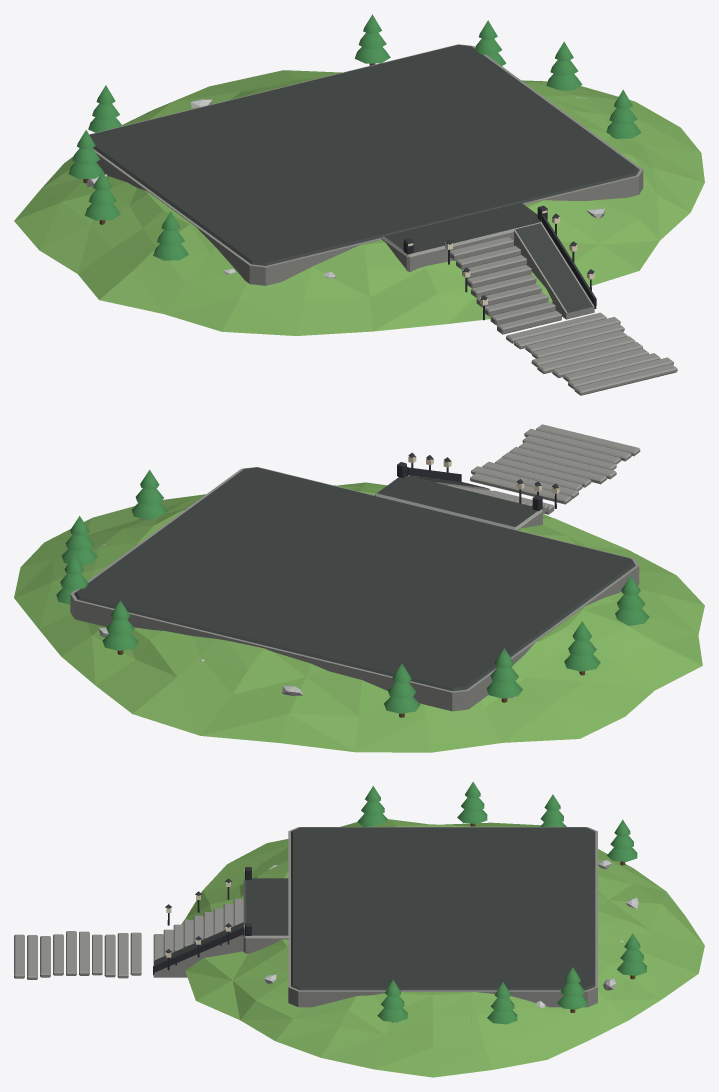
The model's file is MachineWorkshop_Foundation_Roblox.fbx.
3 renders of one model, top to bottom at view 1: azimuth 30°, elevation 25°; view 2: azimuth 150°, elevation 25°; view 3: azimuth 270°, elevation 25°, orthographic. The views are drawn at different scales.
Visible parts, largest first — view 1: CastleBaseStone, HillGrass, PathStone, PineGreen, RampSurface, CharcoalSteel; view 2: CastleBaseStone, HillGrass, PathStone, PineGreen, CharcoalSteel; view 3: CastleBaseStone, HillGrass, PathStone, PineGreen, CharcoalSteel, HillRock.
Part boxes in pixels (<box>): CastleBaseStone: <box>89,44,639,265</box>; HillGrass: <box>14,70,704,335</box>; PathStone: <box>89,44,677,395</box>; PineGreen: <box>68,14,641,260</box>; RampSurface: <box>515,223,592,312</box>; CharcoalSteel: <box>403,205,596,320</box>; CastleBaseStone: <box>74,467,635,691</box>; HillGrass: <box>14,482,704,752</box>; PathStone: <box>70,424,640,711</box>; PineGreen: <box>56,469,649,713</box>; CharcoalSteel: <box>397,452,559,511</box>; CastleBaseStone: <box>245,827,595,990</box>; HillGrass: <box>181,819,704,1077</box>; PathStone: <box>14,827,597,1007</box>; PineGreen: <box>357,782,646,1024</box>; CharcoalSteel: <box>153,867,251,975</box>; HillRock: <box>264,860,638,1022</box>.
Size of the model in its own units: 6109 by 765 by 6924.
